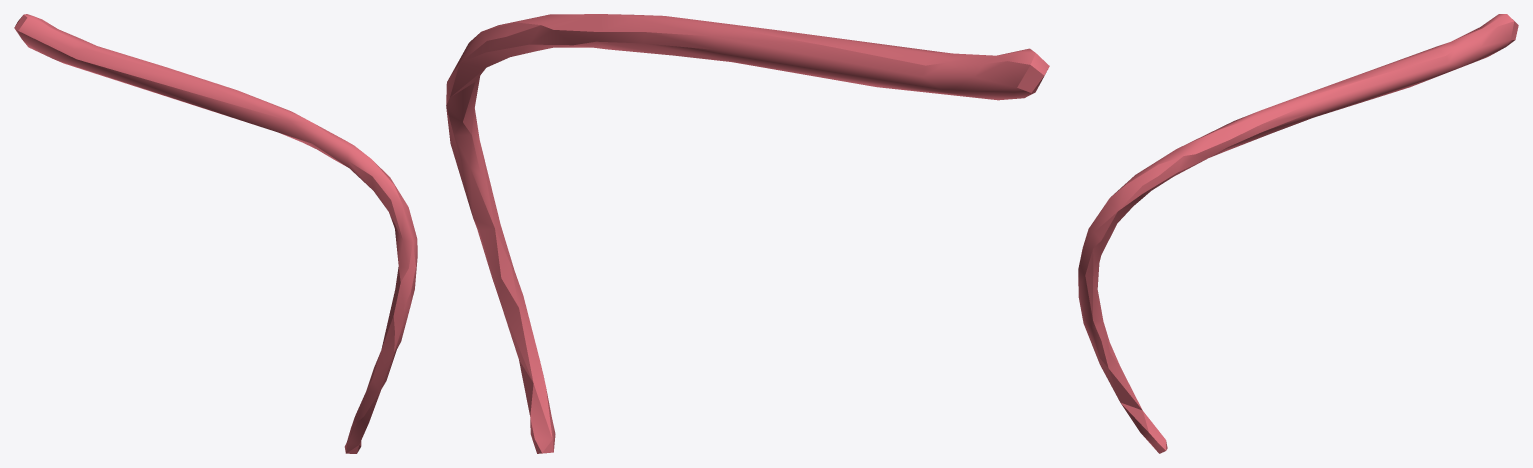
The model's file is fma50428_fj5088.glb.
3 views of the same model, side by side, from view 1: azimuth 30°, elevation 25°; view 2: azimuth 210°, elevation 25°; view 3: azimuth 270°, elevation 25° (orthographic). The views are drawn at different scales.
Parts seen in each view (by area): view 1: FMA50428_FJ5088; view 2: FMA50428_FJ5088; view 3: FMA50428_FJ5088.
Part boxes in pixels (x1,y1,x2,y2): FMA50428_FJ5088: (14, 14, 417, 453); FMA50428_FJ5088: (446, 14, 1049, 453); FMA50428_FJ5088: (1078, 14, 1518, 453).
Bounding box in the file's own units: 0.00288 × 0.00479 × 0.00532.
